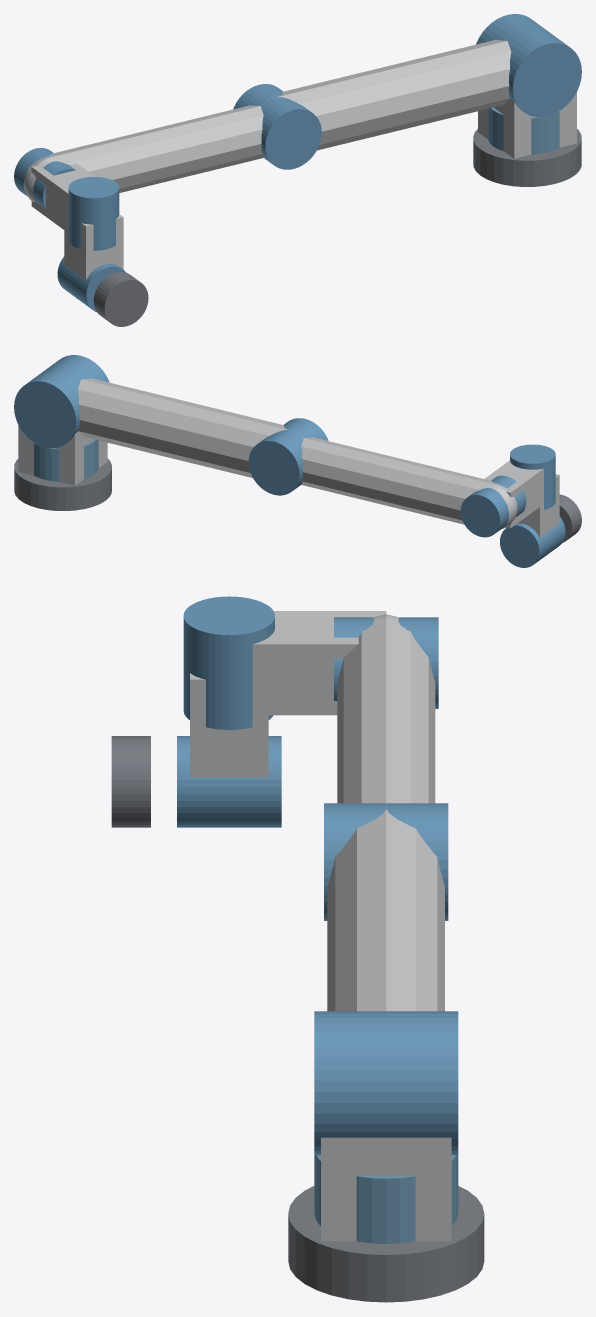
3 views of the same model, one above another, from view 1: azimuth 30°, elevation 25°; view 2: azimuth 150°, elevation 25°; view 3: azimuth 270°, elevation 25° (orthographic). The views are drawn at different scales.
Visible parts, largest first — view 1: link2, link3, link1, base, link4, link5, link6; view 2: link2, link3, link1, base, link4, link5, link6; view 3: link1, link2, link3, base, link4, link5, link6.
Boxes of the visible parts, <box> form: link2: <box>233,40,511,169</box>; link3: <box>14,105,263,208</box>; link1: <box>476,14,581,158</box>; base: <box>473,107,581,186</box>; link4: <box>31,163,119,250</box>; link5: <box>57,214,126,312</box>; link6: <box>93,272,148,326</box>; link2: <box>77,378,328,495</box>; link3: <box>301,437,526,537</box>; link1: <box>14,355,109,485</box>; base: <box>14,439,111,510</box>; link4: <box>484,444,555,528</box>; link5: <box>500,474,565,567</box>; link6: <box>559,494,581,542</box>; link1: <box>314,1011,458,1241</box>; link2: <box>324,803,448,1011</box>; link3: <box>334,614,438,803</box>; base: <box>288,1155,484,1302</box>; link4: <box>183,596,386,729</box>; link5: <box>177,673,281,827</box>; link6: <box>111,736,150,827</box>.
Size of the model in its own units: 0.8725 by 0.205 by 0.285.
